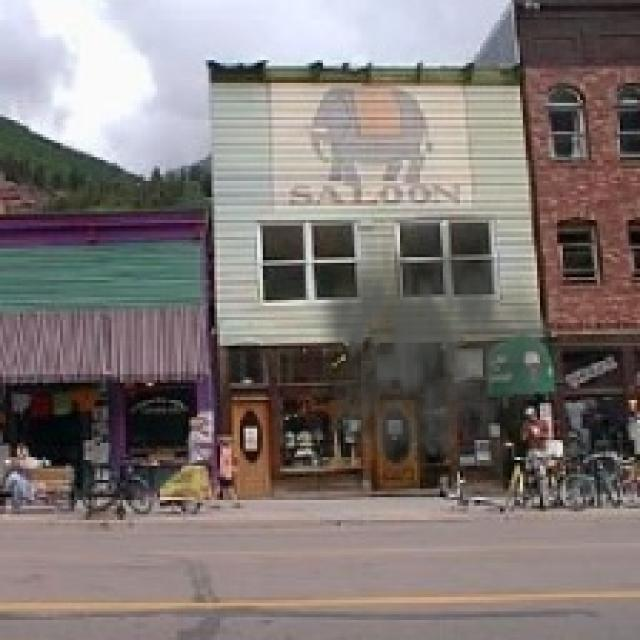Smoke: (308, 226, 548, 508)
